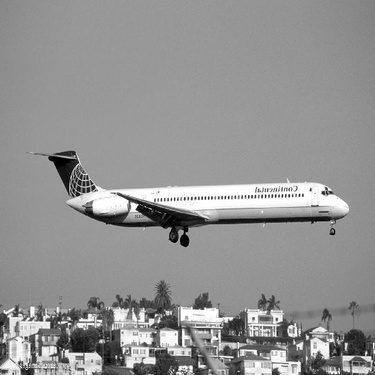airplane: (20, 140, 354, 250)
